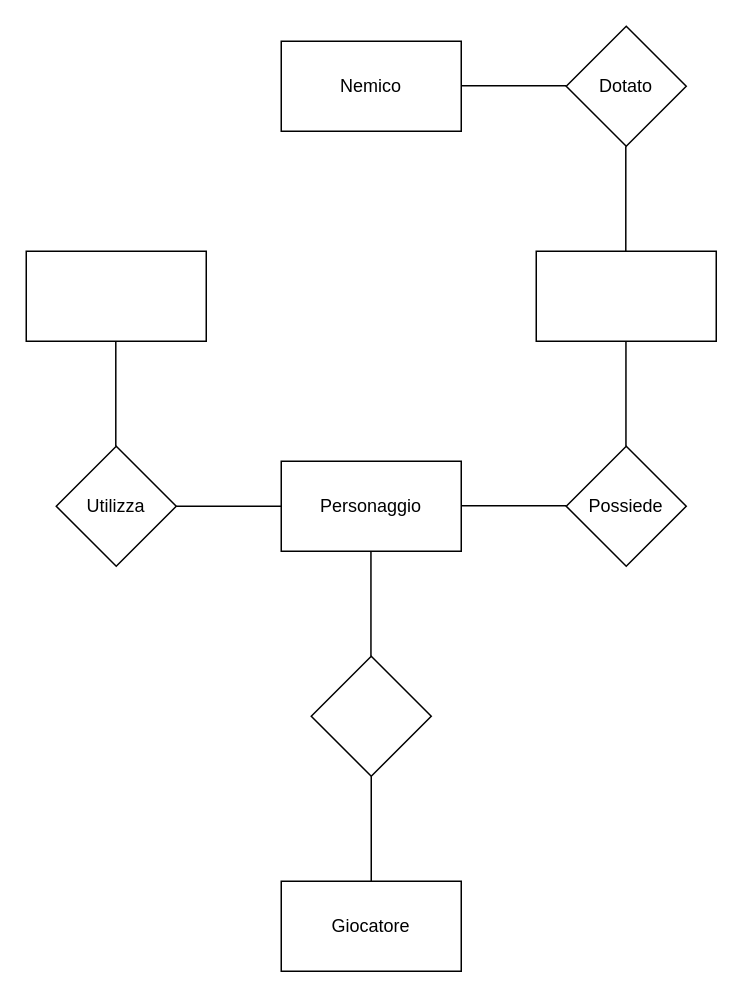
This 743x998 diagram has some shape labels left out. The shapes that lost their labels are listed below. From the top down, each one's centre as x and y in pixels, then its label:
(115,295): Arma
(625,295): Abilità
(370,715): Controlla
